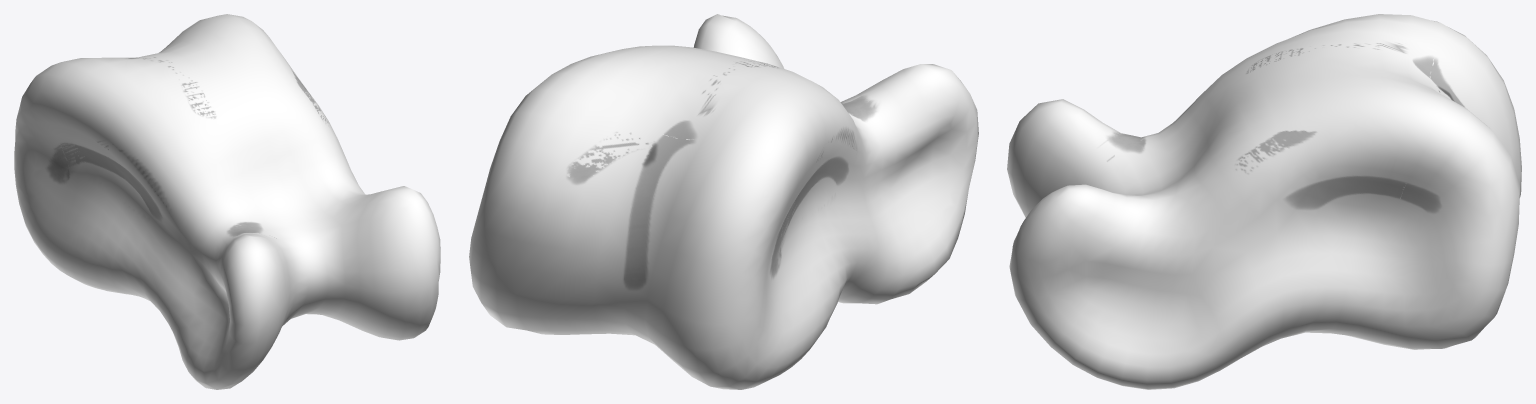
File: player.obj
3 renders of one model, left to right at view 1: azimuth 30°, elevation 25°; view 2: azimuth 150°, elevation 25°; view 3: azimuth 270°, elevation 25°, orthographic. The views are drawn at different scales.
Parts seen in each view (by area): view 1: objMesh; view 2: objMesh; view 3: objMesh.
Part boxes in pixels (bbox=[...]): objMesh: bbox=[14, 14, 440, 389]; objMesh: bbox=[469, 14, 978, 389]; objMesh: bbox=[1007, 14, 1521, 389].
Size of the model in its own units: 47.45 by 43.83 by 73.72.
Materials: 1 (1 with a texture image).
